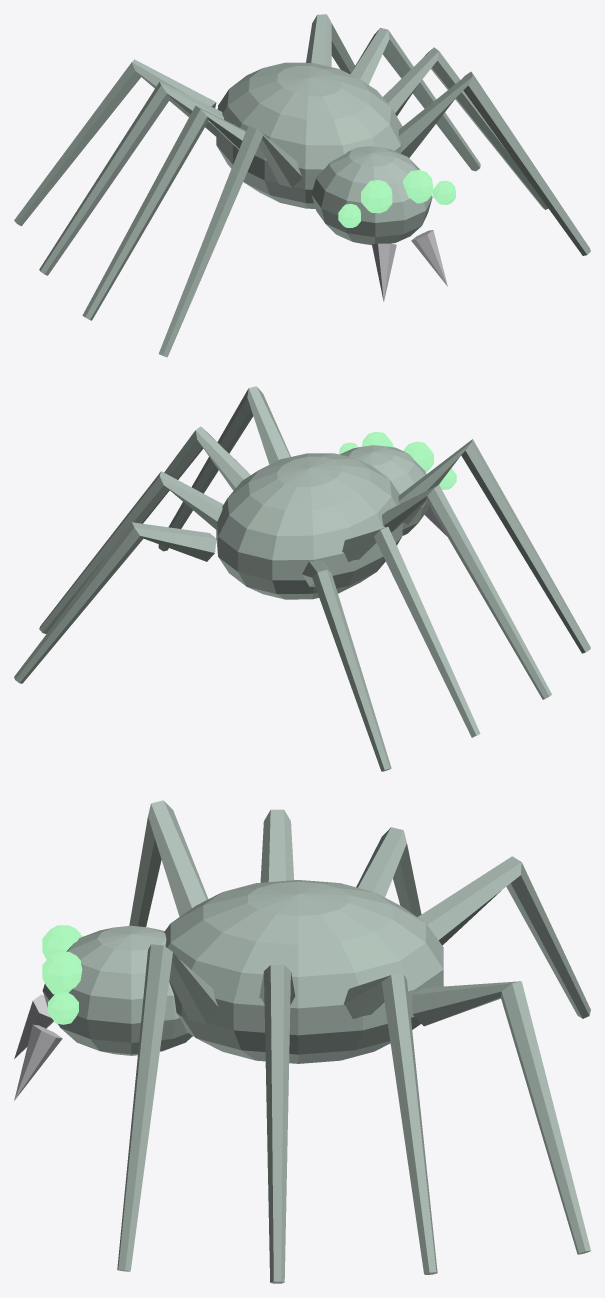
The model's file is spiderling.glb.
3 views of the same model, one above another, from view 1: azimuth 30°, elevation 25°; view 2: azimuth 150°, elevation 25°; view 3: azimuth 270°, elevation 25° (orthographic). The views are drawn at different scales.
Parts seen in each view (by area): view 1: spiderling_body, spiderling_glow, spiderling_bone; view 2: spiderling_body, spiderling_glow; view 3: spiderling_body, spiderling_glow, spiderling_bone.
Part boxes in pixels (x1=…): spiderling_body: x1=14, y1=14, x2=590, y2=357; spiderling_glow: x1=338, y1=170, x2=455, y2=227; spiderling_bone: x1=372, y1=230, x2=447, y2=302; spiderling_body: x1=14, y1=386, x2=590, y2=771; spiderling_glow: x1=339, y1=431, x2=456, y2=489; spiderling_body: x1=42, y1=800, x2=590, y2=1283; spiderling_glow: x1=42, y1=925, x2=82, y2=1024; spiderling_bone: x1=14, y1=994, x2=62, y2=1100.
Size of the model in its own units: 0.8664 by 0.35 by 0.6941.
